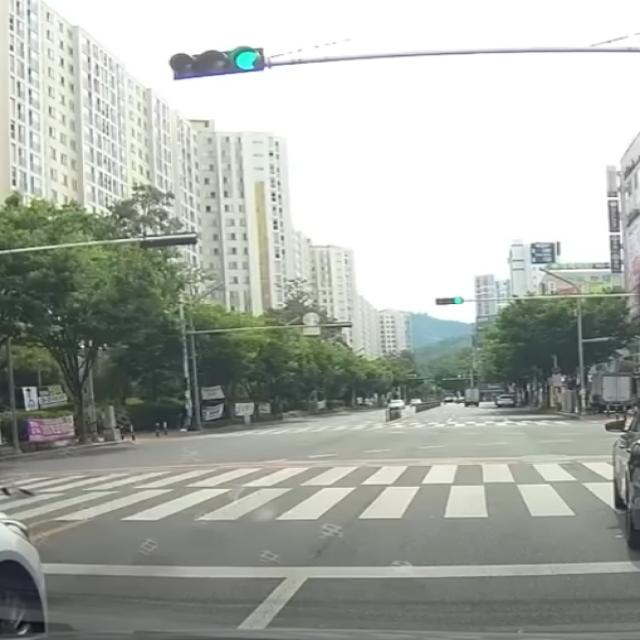Green Light: (232, 44, 264, 72), (453, 296, 463, 304)
